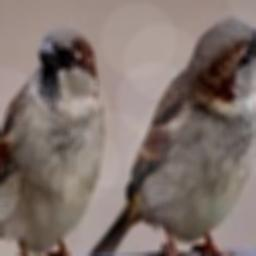Sparrow: (86, 18, 256, 256), (0, 25, 106, 256)
